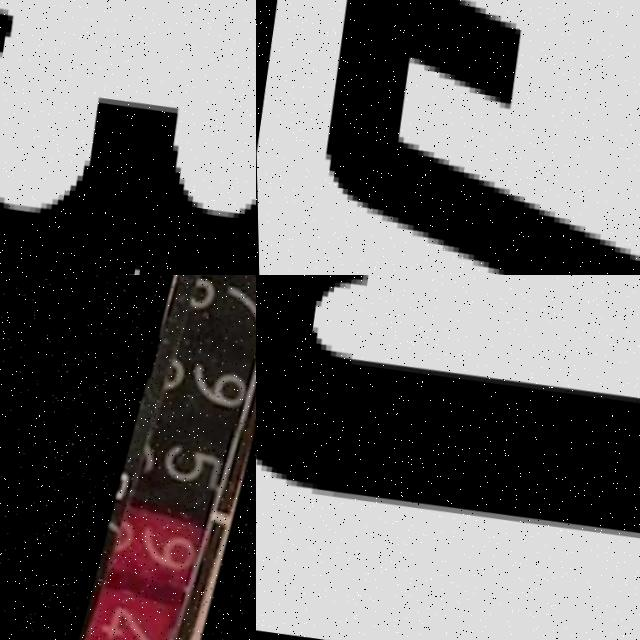3: (0, 0, 256, 275)
4: (89, 596, 164, 640)
5: (154, 435, 231, 493)
7: (214, 275, 256, 334)
9: (129, 517, 208, 578), (185, 350, 256, 415)
J: (256, 275, 640, 557), (283, 0, 640, 275)
